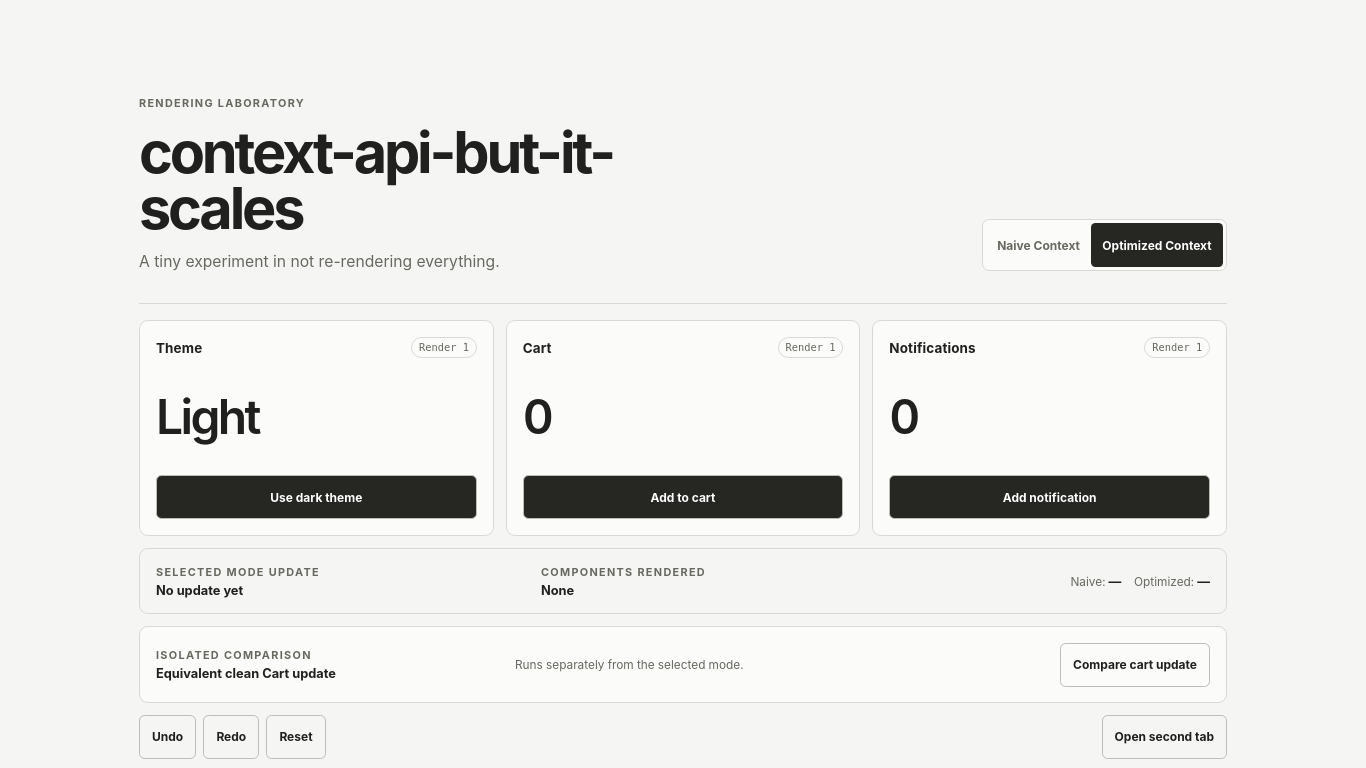
render comparison UI › only re-renders the cart card for an optimized cart update
The image size is (1366, 768).
Click the button "Add to cart": (683, 498) [523,476,843,520]
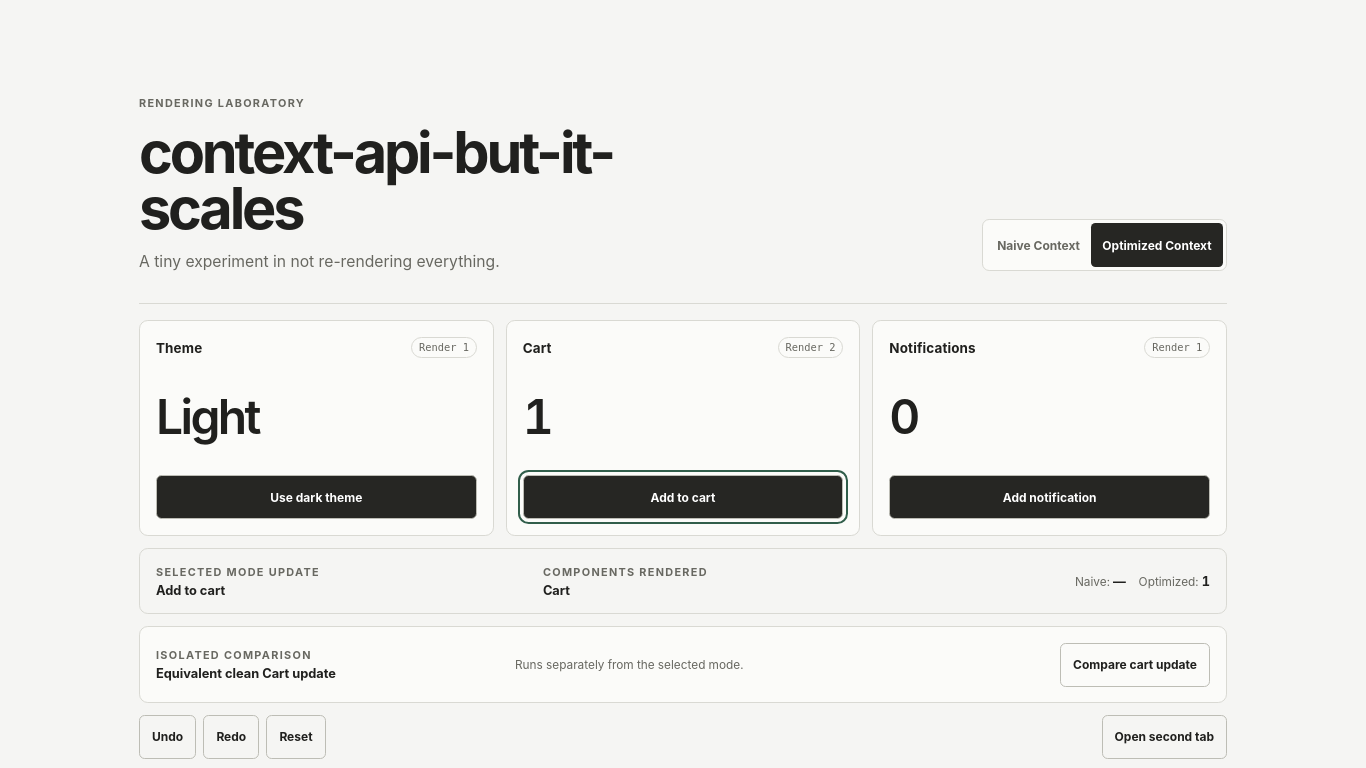
expect the heading "Cart" is shown: met, box [523,340,552,356]
expect the text "Optimized:" reads "Optimized: 1": met, box [1139,574,1210,589]
expect the text "Cart" is shown: met, box [543,583,570,598]
